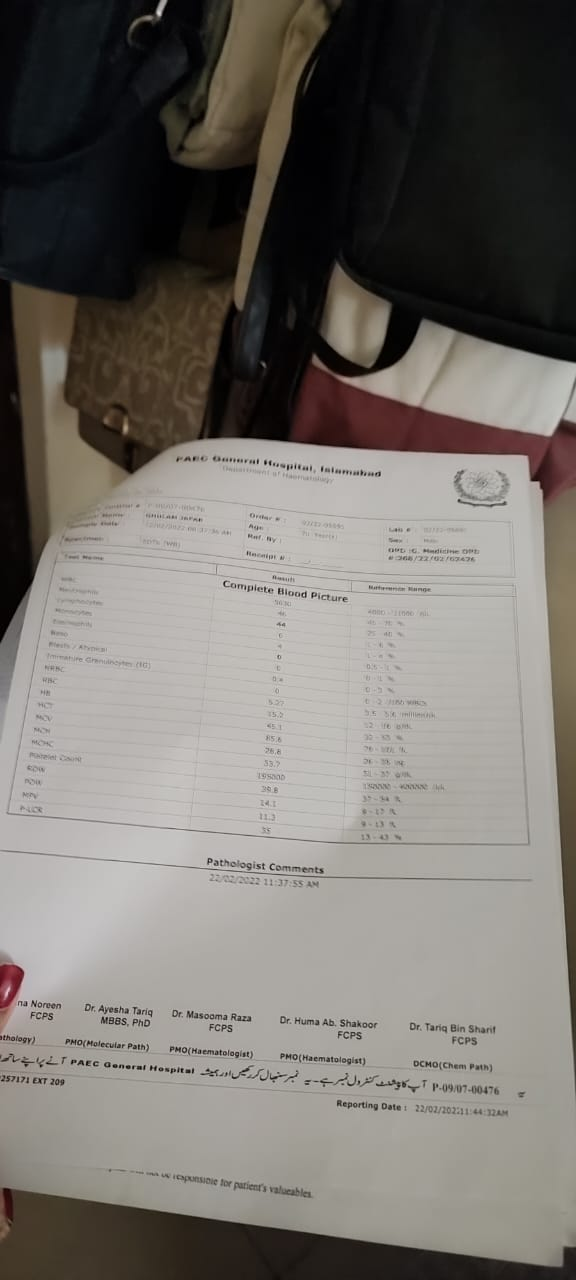report: (18, 548, 536, 858)
